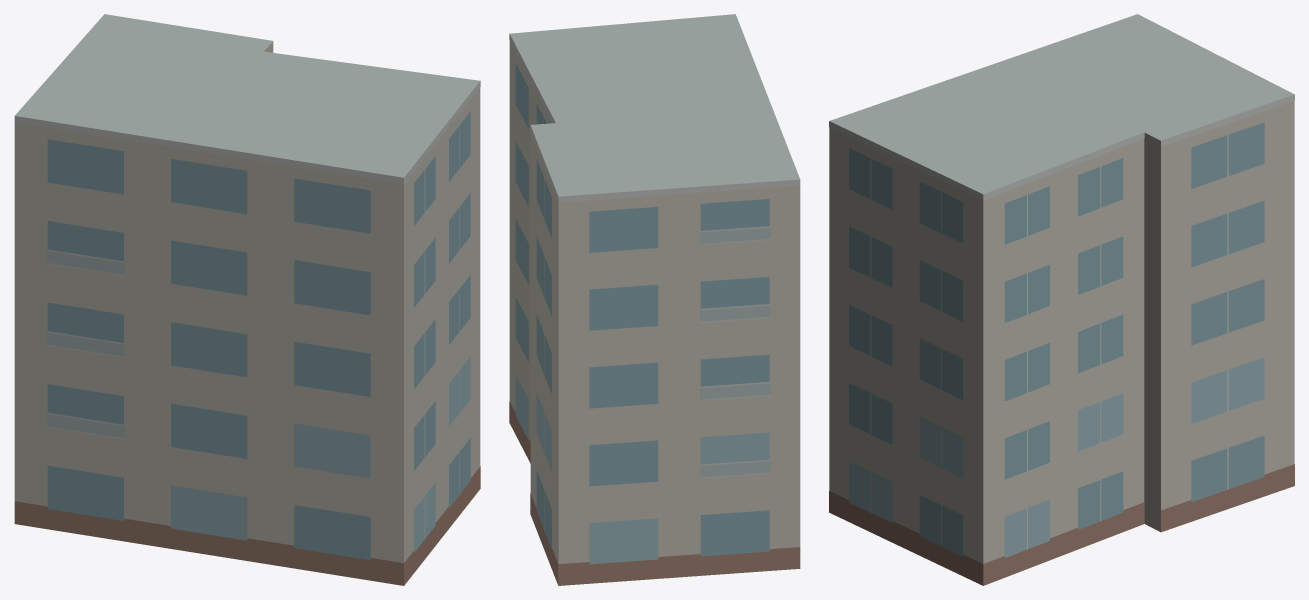
The model's file is survey-upis-32822567.glb.
3 views of the same model, side by side, from view 1: azimuth 30°, elevation 25°; view 2: azimuth 150°, elevation 25°; view 3: azimuth 270°, elevation 25° (orthographic). The views are drawn at different scales.
Visible parts, largest first — view 1: survey-upis-32822567.tmp; view 2: survey-upis-32822567.tmp; view 3: survey-upis-32822567.tmp.
Part boxes in pixels (box(x1,y1,x2,y2)): survey-upis-32822567.tmp: box(14, 14, 480, 585); survey-upis-32822567.tmp: box(509, 14, 800, 585); survey-upis-32822567.tmp: box(829, 14, 1294, 585).
Bounding box in the file's own units: 15.12 × 15.3 × 16.5.
